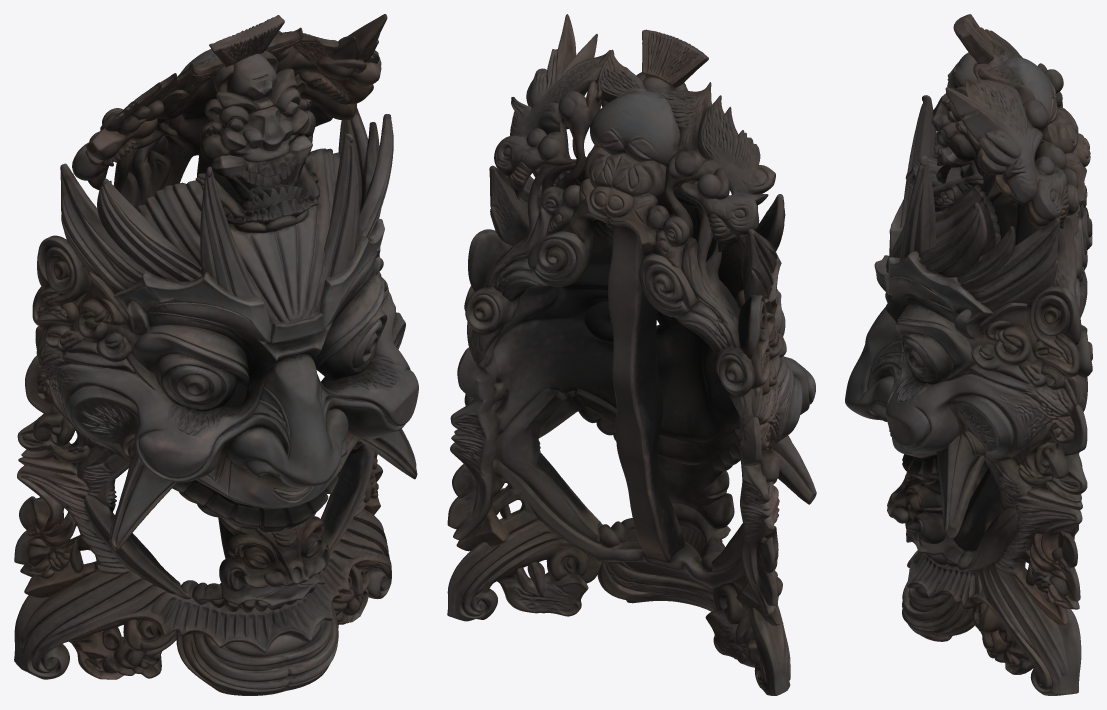
The model's file is mask-006.glb.
The picture shows the model from 3 angles, left to right: view 1: azimuth 30°, elevation 25°; view 2: azimuth 150°, elevation 25°; view 3: azimuth 270°, elevation 25°; orthographic projection. The views are drawn at different scales.
Parts seen in each view (by area): view 1: node_0; view 2: node_0; view 3: node_0.
Part boxes in pixels (x1=…): node_0: x1=14, y1=14, x2=418, y2=695; node_0: x1=447, y1=14, x2=816, y2=695; node_0: x1=845, y1=14, x2=1092, y2=695.
Bounding box in the file's own units: 0.6013 × 1.01 × 0.3813.
1 material, 1 textured.
